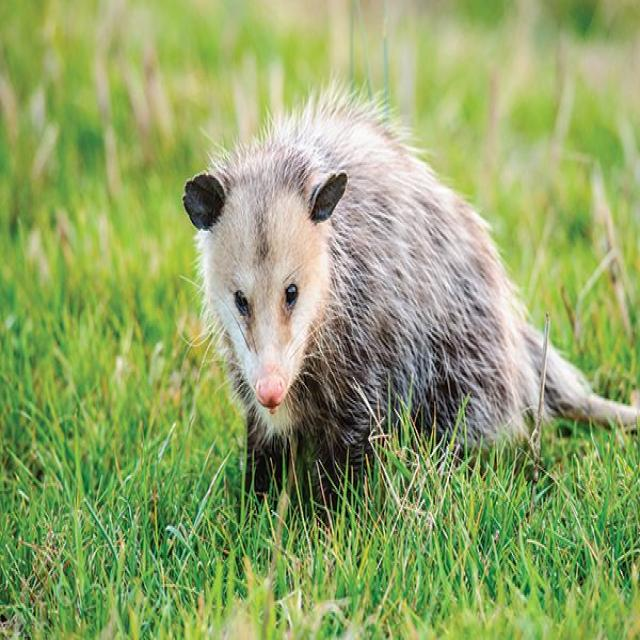Possum: (168, 81, 640, 484)
